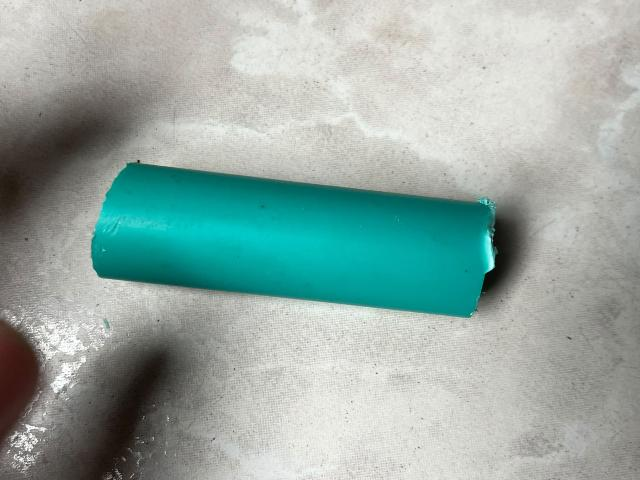PVC: (92, 139, 521, 349)
